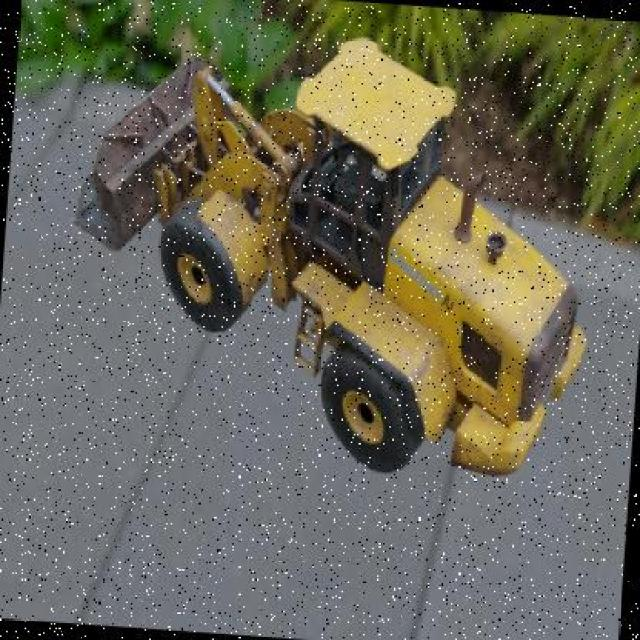buldozerpayloadergrader: (59, 15, 610, 487)
